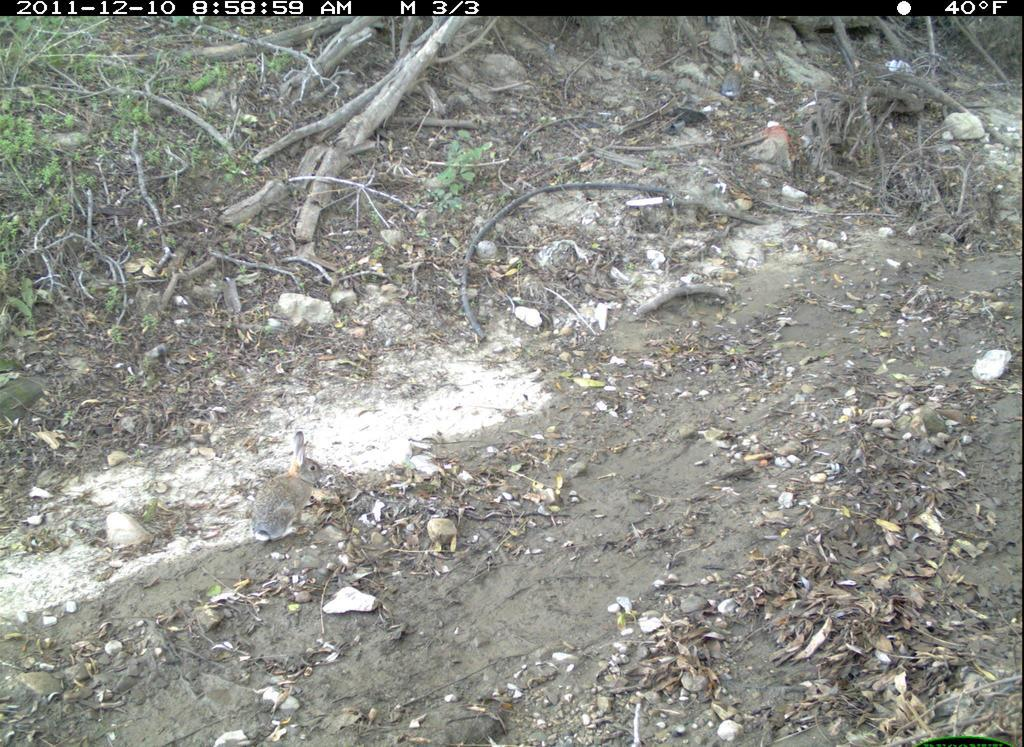rabbit: (248, 428, 328, 547)
